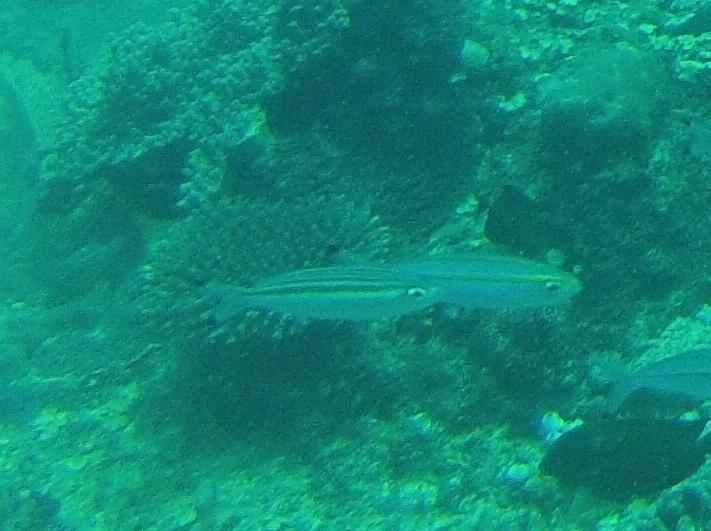Fish: (182, 242, 436, 344)
